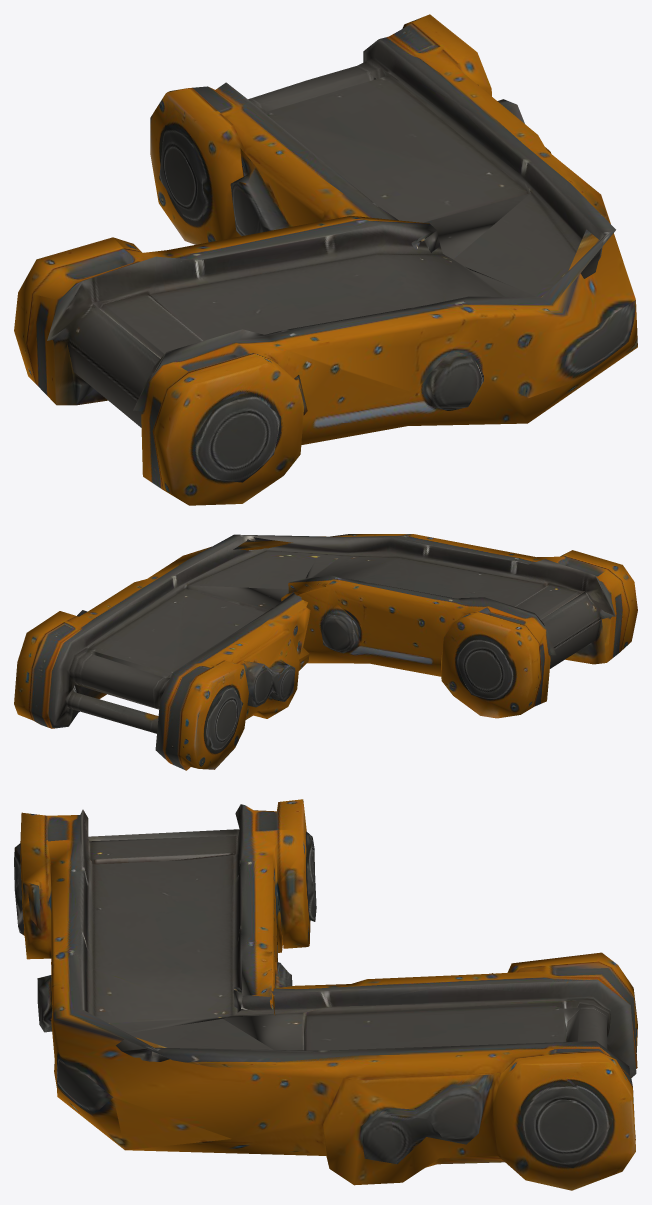
Rendered from cinta-L.fbx.
The picture shows the model from 3 angles, top to bottom: view 1: azimuth 30°, elevation 25°; view 2: azimuth 150°, elevation 25°; view 3: azimuth 270°, elevation 25°; orthographic projection. The views are drawn at different scales.
Visible parts, largest first — view 1: tripo_node_6aebbde3; view 2: tripo_node_6aebbde3; view 3: tripo_node_6aebbde3.
Boxes of the visible parts, x1,y1,x2,y2 form: tripo_node_6aebbde3: (14, 14, 637, 505); tripo_node_6aebbde3: (14, 534, 637, 770); tripo_node_6aebbde3: (14, 799, 637, 1190).
Size of the model in its own units: 68.39 by 19.28 by 67.93.
1 material, 1 textured.
